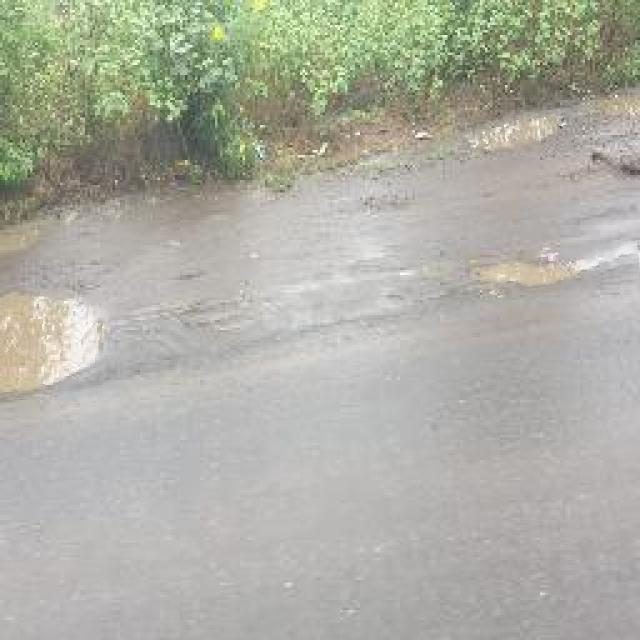puddle: (1, 289, 107, 403), (480, 245, 640, 293), (468, 112, 575, 157)
